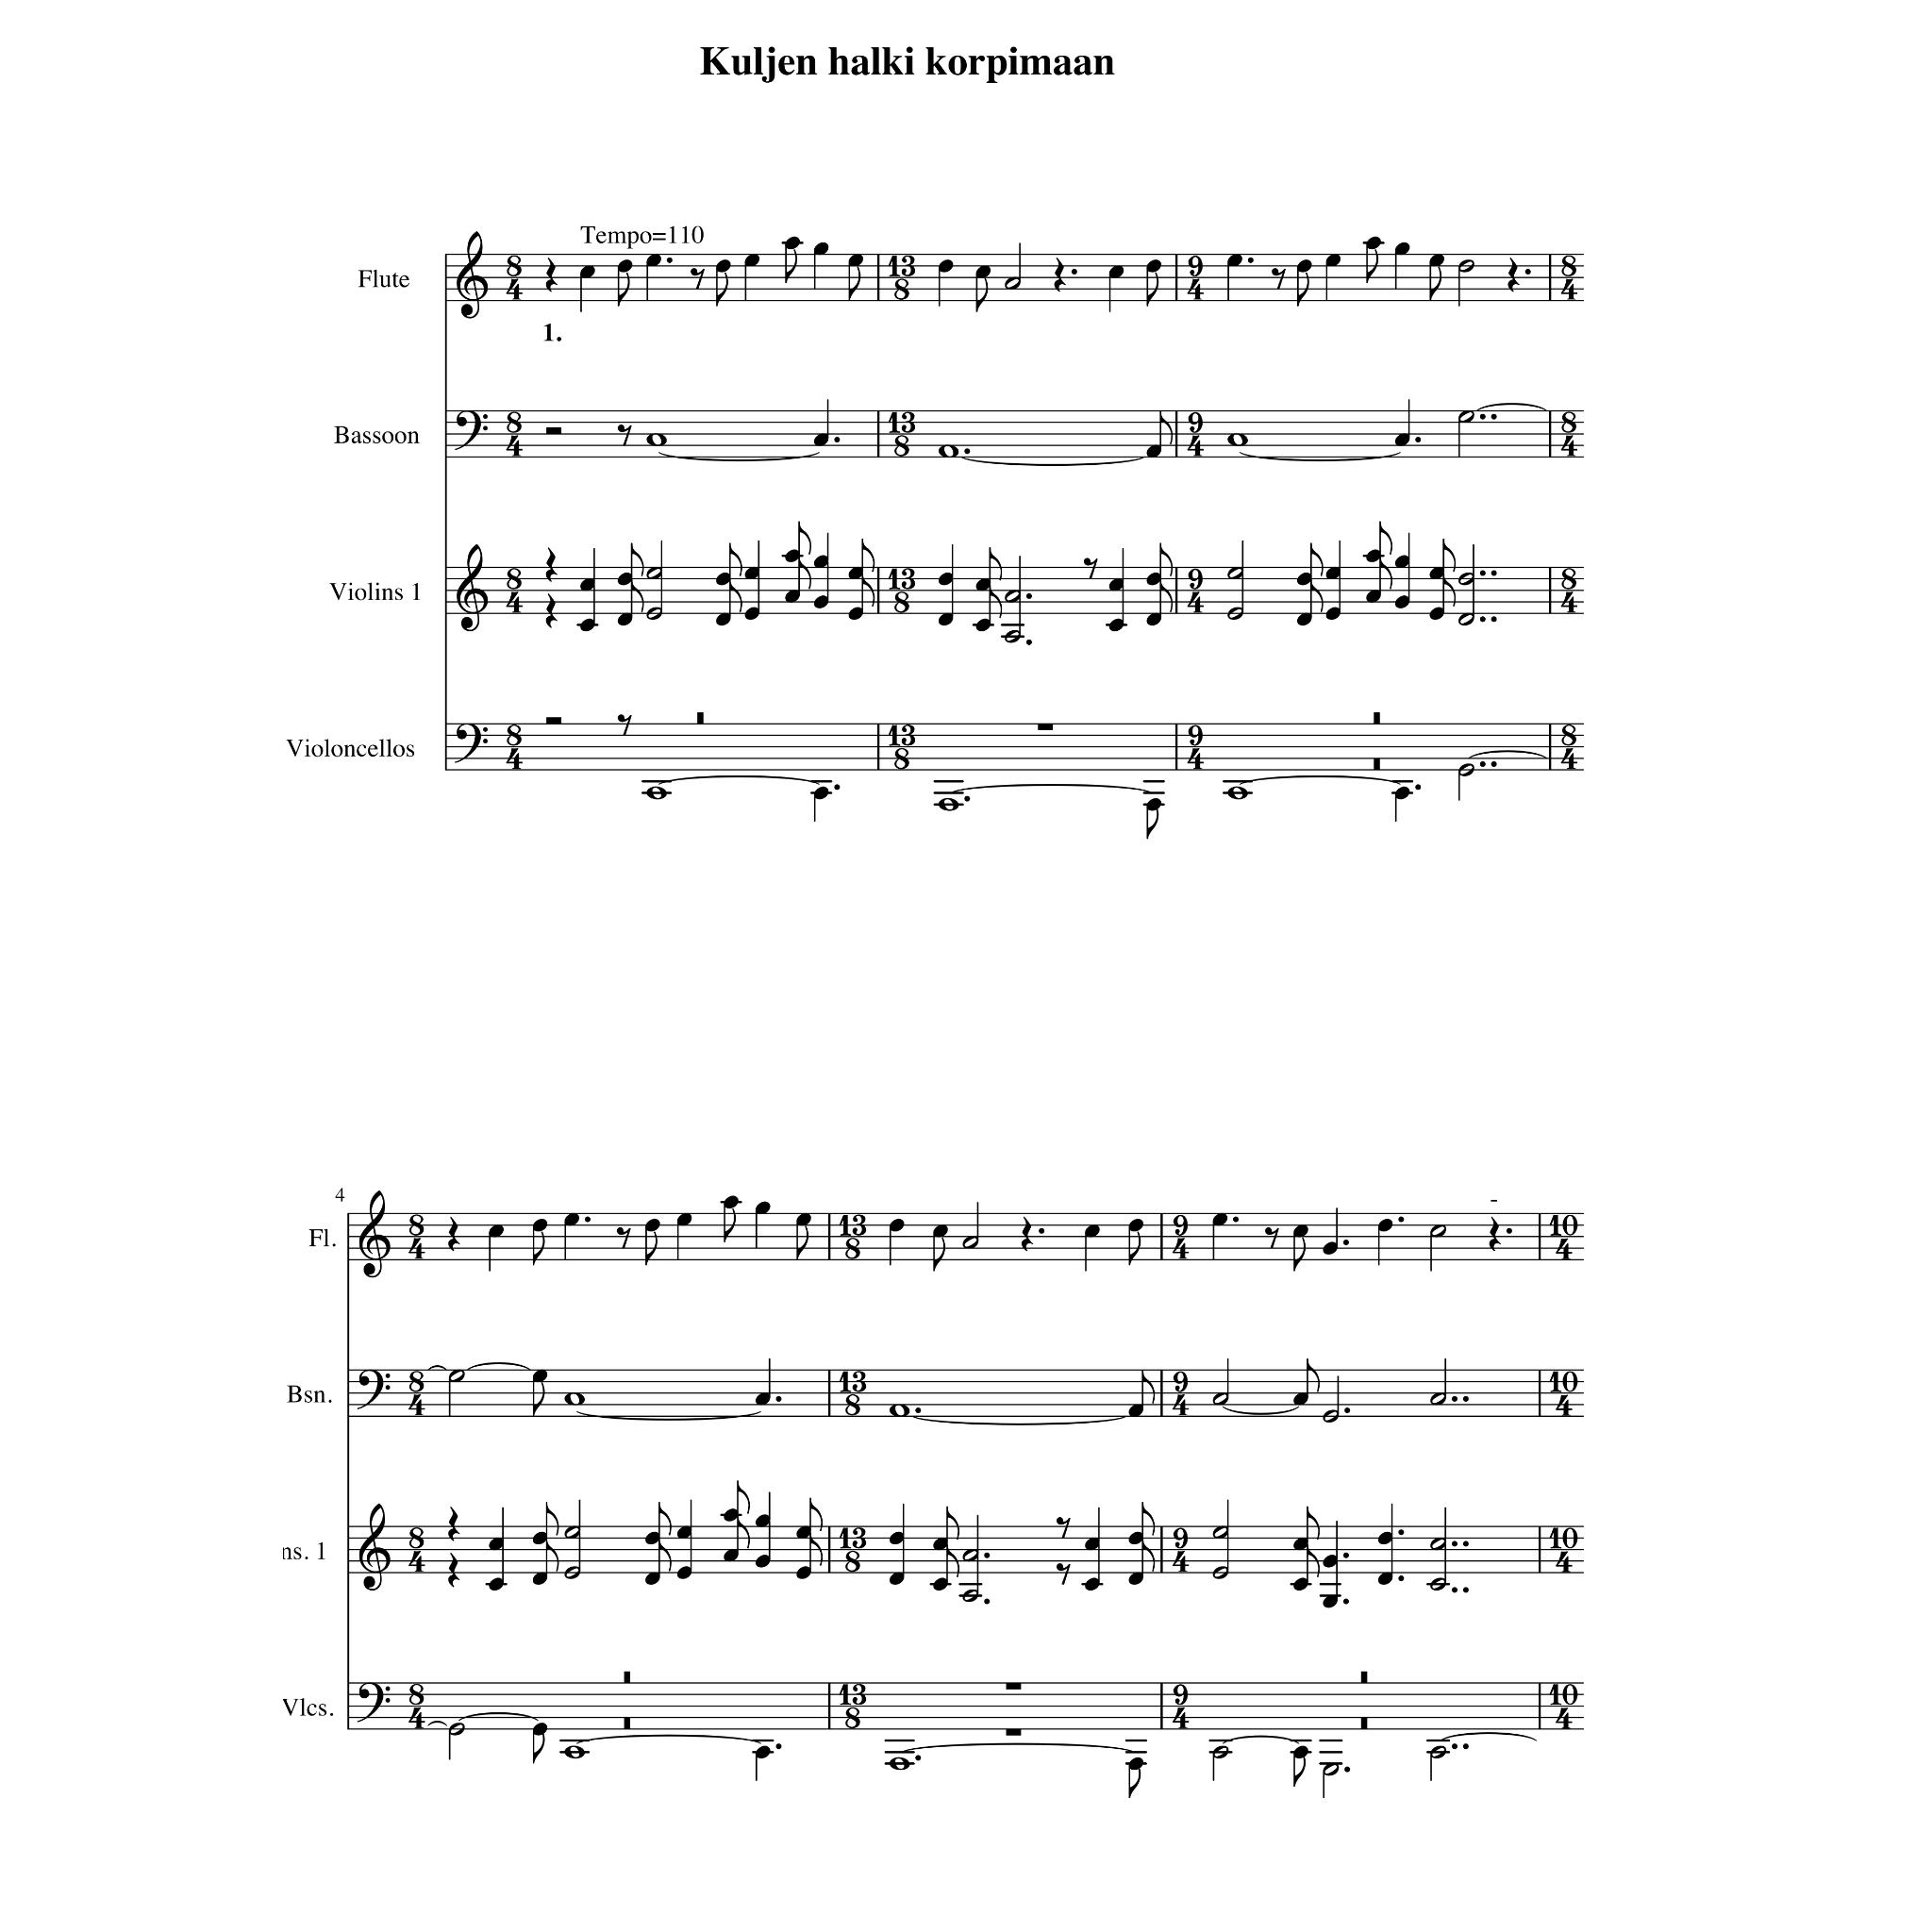fClef: (453, 410, 488, 451), (453, 724, 488, 764), (357, 1369, 391, 1410), (357, 1683, 391, 1723)
flag8thDown: (1146, 805, 1159, 840), (1366, 249, 1378, 285), (977, 278, 989, 313), (786, 249, 798, 285), (1129, 1764, 1141, 1799), (533, 1729, 545, 1764), (1297, 272, 1309, 306), (1146, 272, 1159, 306), (1430, 267, 1442, 301), (617, 272, 630, 306), (717, 272, 729, 306), (849, 267, 862, 301), (1129, 1231, 1141, 1265), (1293, 1753, 1306, 1787), (1293, 1238, 1306, 1272), (533, 1382, 545, 1415), (533, 1231, 545, 1265), (644, 1231, 656, 1265), (796, 1226, 809, 1260), (934, 1238, 947, 1272), (724, 1208, 736, 1242)
flag8thUp: (1159, 410, 1173, 446), (1159, 579, 1173, 614), (1442, 538, 1456, 573), (729, 579, 743, 614), (809, 1532, 823, 1568), (736, 1514, 750, 1550), (989, 586, 1003, 619), (1159, 543, 1173, 577), (1442, 573, 1456, 607), (729, 543, 743, 577), (989, 547, 1003, 580), (798, 522, 812, 556), (798, 557, 812, 591), (1141, 1502, 1155, 1536), (1141, 1539, 1155, 1573), (1141, 1371, 1155, 1405), (1306, 1359, 1320, 1392), (1306, 1507, 1320, 1541), (1306, 1545, 1320, 1578), (658, 1502, 672, 1536), (809, 1499, 823, 1532), (736, 1481, 750, 1514), (658, 1539, 672, 1573), (1311, 579, 1323, 614), (632, 579, 644, 614), (862, 538, 874, 573), (1311, 543, 1323, 577), (1380, 522, 1392, 556), (1380, 557, 1392, 591), (632, 543, 644, 577), (862, 573, 874, 607), (947, 1507, 959, 1541), (947, 1545, 959, 1578), (547, 1502, 559, 1536), (547, 1539, 559, 1573)
gClef: (359, 1502, 391, 1592), (456, 543, 488, 632), (456, 232, 488, 320), (359, 1189, 391, 1277)
noteheadBlack: (616, 260, 633, 274), (616, 612, 633, 626), (531, 1369, 548, 1384), (1226, 253, 1242, 267), (1295, 260, 1311, 274), (1295, 612, 1311, 626), (1146, 260, 1162, 274), (1146, 612, 1162, 626), (1146, 798, 1162, 812), (1366, 589, 1382, 603), (1394, 242, 1410, 257), (1394, 433, 1410, 448), (1325, 253, 1341, 267), (1325, 566, 1341, 580), (1325, 607, 1341, 621), (1394, 556, 1410, 570), (1430, 253, 1445, 267), (1430, 566, 1445, 580), (1430, 607, 1445, 621), (1394, 594, 1410, 609), (646, 253, 662, 267), (715, 260, 731, 274), (715, 612, 731, 626), (938, 612, 954, 626), (938, 260, 954, 274), (812, 242, 828, 257), (812, 433, 828, 448), (812, 556, 828, 570), (812, 594, 828, 609), (743, 253, 759, 267), (743, 566, 759, 580), (743, 607, 759, 621), (784, 589, 800, 603), (847, 253, 863, 267), (847, 566, 863, 580), (847, 607, 863, 621), (1212, 1212, 1228, 1226), (1293, 1224, 1309, 1238), (1293, 1537, 1309, 1552), (1085, 1537, 1100, 1552), (1085, 1224, 1100, 1238), (1322, 1242, 1338, 1256), (1322, 1553, 1338, 1568), (1322, 1594, 1338, 1608), (488, 1224, 504, 1238), (488, 1537, 504, 1552), (796, 1212, 812, 1226), (796, 1525, 812, 1539), (932, 1224, 948, 1238), (932, 1537, 948, 1552), (796, 1566, 812, 1580), (676, 1566, 692, 1580), (676, 1525, 692, 1539), (676, 1212, 692, 1226), (754, 1201, 770, 1215), (754, 1514, 770, 1529), (754, 1553, 770, 1568), (616, 573, 633, 586), (531, 1532, 548, 1545), (531, 1219, 548, 1231), (531, 1573, 548, 1585), (531, 1723, 548, 1736), (644, 1532, 662, 1545), (644, 1219, 662, 1231), (644, 1573, 662, 1585), (1129, 1403, 1143, 1417), (1129, 1757, 1143, 1771), (564, 1212, 579, 1226), (1295, 573, 1311, 586), (1108, 265, 1123, 278), (1108, 579, 1123, 591), (1108, 619, 1123, 632), (1146, 446, 1162, 458), (1146, 573, 1162, 586), (1366, 550, 1382, 563), (1366, 237, 1382, 249), (1394, 787, 1410, 800), (715, 573, 731, 586), (580, 265, 596, 278), (580, 579, 596, 591), (580, 619, 596, 632), (938, 573, 954, 586), (975, 619, 991, 632), (975, 265, 991, 278), (975, 579, 991, 591), (812, 787, 828, 800), (784, 237, 800, 249), (784, 550, 800, 563), (1293, 1746, 1309, 1759), (1293, 1392, 1309, 1405), (1293, 1578, 1309, 1591), (1085, 1578, 1100, 1591), (1378, 1573, 1394, 1585), (1378, 1532, 1394, 1545), (1378, 1219, 1394, 1231), (488, 1578, 504, 1591), (888, 1219, 904, 1231), (888, 1532, 904, 1545), (888, 1573, 904, 1585), (932, 1578, 948, 1591), (724, 1196, 740, 1208), (724, 1509, 740, 1522), (724, 1550, 740, 1562), (754, 1392, 770, 1405), (754, 1746, 770, 1759), (1129, 1219, 1143, 1231), (1129, 1532, 1143, 1545), (1129, 1573, 1143, 1585)
noteheadHalf: (1226, 566, 1244, 580), (1226, 607, 1244, 621), (1003, 589, 1021, 603), (1003, 630, 1021, 644), (1212, 1525, 1230, 1539), (1212, 1566, 1230, 1580), (448, 1369, 465, 1384), (1458, 260, 1474, 274), (1458, 763, 1474, 777), (646, 566, 662, 580), (646, 607, 662, 621), (962, 1235, 978, 1249), (962, 1589, 978, 1603), (1430, 1537, 1445, 1552), (1323, 1410, 1339, 1424), (1430, 1224, 1445, 1238), (564, 1525, 580, 1539), (564, 1566, 580, 1580), (1003, 278, 1021, 290), (1212, 1392, 1230, 1405), (1212, 1746, 1230, 1759), (448, 1723, 465, 1736), (1458, 410, 1474, 423), (1458, 573, 1474, 586), (1458, 614, 1474, 626), (962, 1550, 978, 1562), (1430, 1578, 1445, 1591), (1430, 1746, 1445, 1759), (1430, 1392, 1445, 1405), (1323, 1764, 1339, 1776)
noteheadWhole: (1226, 433, 1249, 448), (1226, 786, 1249, 800), (938, 798, 961, 812), (646, 433, 667, 448), (646, 786, 667, 800), (888, 1403, 909, 1417), (888, 1757, 909, 1771), (938, 446, 961, 458), (564, 1392, 586, 1405), (564, 1746, 586, 1759)
rest8th: (1270, 267, 1286, 290), (1083, 557, 1099, 580), (1263, 1228, 1279, 1249), (616, 1228, 632, 1249), (617, 425, 632, 448), (690, 267, 704, 290), (1056, 1516, 1070, 1539), (617, 715, 632, 736), (1056, 1564, 1070, 1585)
restHalf: (545, 717, 563, 725), (545, 428, 563, 435)
restQuarter: (545, 593, 557, 630), (1053, 258, 1065, 294), (1507, 258, 1520, 294), (545, 258, 557, 294), (448, 1506, 460, 1541), (448, 1552, 460, 1587), (545, 548, 557, 582), (1021, 1217, 1033, 1251), (1490, 1217, 1502, 1251), (448, 1217, 460, 1251)
restWhole: (1005, 1729, 1021, 1737), (1037, 724, 1053, 731), (1005, 1683, 1021, 1690), (697, 711, 704, 724), (1373, 711, 1380, 724), (1373, 759, 1380, 771), (623, 1672, 630, 1684), (623, 1718, 630, 1730), (1361, 1672, 1368, 1684), (1361, 1718, 1368, 1730)
